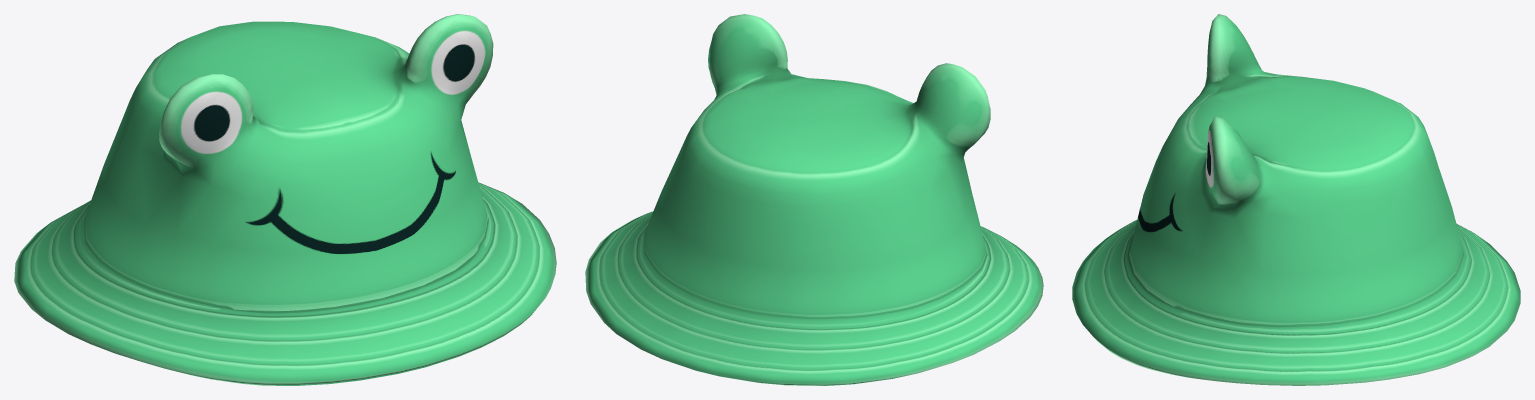
File: Bucket Frog.fbx
The picture shows the model from 3 angles, left to right: view 1: azimuth 30°, elevation 25°; view 2: azimuth 150°, elevation 25°; view 3: azimuth 270°, elevation 25°; orthographic projection. The views are drawn at different scales.
Visible parts, largest first — view 1: Bucket frog; view 2: Bucket frog; view 3: Bucket frog.
Boxes of the visible parts, x1=… form: Bucket frog: x1=14, y1=14, x2=556, y2=385; Bucket frog: x1=585, y1=14, x2=1043, y2=385; Bucket frog: x1=1072, y1=14, x2=1520, y2=385.
Size of the model in its own units: 53.07 by 28.54 by 50.06.
